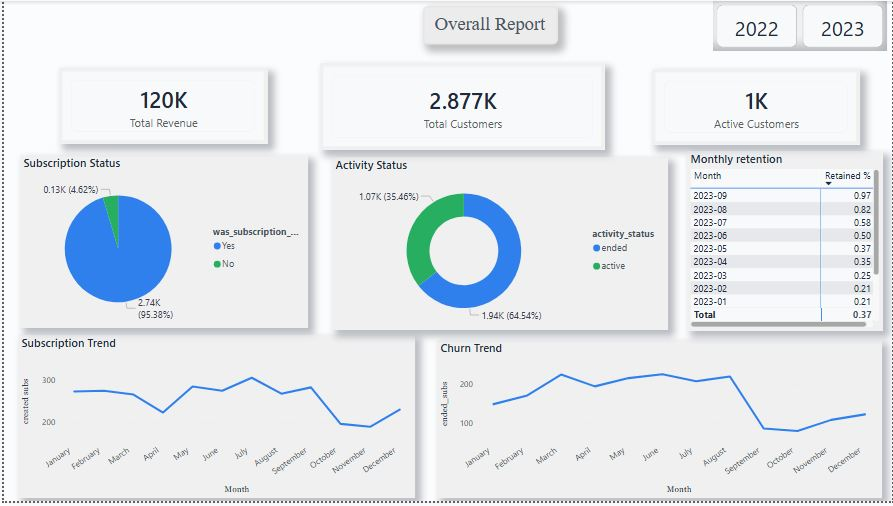

What the dashboard file says about the page in this screenshot:
{"tool":"powerbi","page":{"name":"Page 1","canvas":[1280,720],"ordinal":0},"visuals":[{"type":"cardVisual","fields":{"Data":["Count(Subscription Cohort Analysis Data.customer_id)"]},"box":[455,89.3,410.4,125.3],"z":0},{"type":"pieChart","title":"Subscription Status","fields":{"Category":["Subscription Cohort Analysis Data.was_subscription_paid"],"Y":["Count(Subscription Cohort Analysis Data.customer_id)"]},"box":[23,221.8,414.7,249.1],"z":1000},{"type":"lineChart","title":"Subscription Trend","fields":{"Y":["Subscription Cohort Analysis Data.created subs"],"Category":["Subscription Cohort Analysis Data.created_date.Variation.Date Hierarchy.Year","Subscription Cohort Analysis Data.created_date.Variation.Date Hierarchy.Month"]},"box":[20.2,481,571.7,234.7],"z":2000},{"type":"cardVisual","fields":{"Data":["Sum(Subscription Cohort Analysis Data.subscription_cost)"]},"box":[79.2,96.5,301,109.4],"z":3000},{"type":"lineChart","title":"Churn Trend","fields":{"Category":["Subscription Cohort Analysis Data.canceled_date.Variation.Date Hierarchy.Year","Subscription Cohort Analysis Data.canceled_date.Variation.Date Hierarchy.Month"],"Y":["Subscription Cohort Analysis Data.ended_subs"]},"box":[623.5,488.2,640.8,227.5],"z":4000},{"type":"donutChart","title":"Activity Status","fields":{"Category":["Subscription Cohort Analysis Data.activity_status"],"Y":["Count(Subscription Cohort Analysis Data.customer_id)"]},"box":[472.3,224.6,483.8,249.1],"z":5000},{"type":"cardVisual","fields":{"Data":["Subscription Cohort Analysis Data.active customers"]},"box":[933.1,97.9,299.5,109.4],"z":6000},{"type":"pivotTable","title":"Monthly retention","fields":{"Rows":["Subscription Cohort Analysis Data.cohortmonth"],"Values":["Subscription Cohort Analysis Data.Retained %"]},"box":[983.5,216,282.2,259.2],"z":7000},{"type":"textbox","box":[603.4,7.2,194.4,54.7],"z":8000},{"type":"advancedSlicerVisual","fields":{"Values":["Subscription Cohort Analysis Data.Year"]},"box":[1021,0,250.6,72],"z":8001}]}

Visuals, with their boxes in screenshot pixels (x1, y1, x2, y2), scaled from the page's 1280x720 canvas onto the 893x506 screenshot:
cardVisual - Count(Subscription Cohort Analysis Data.customer_id): 317, 63, 604, 151
"Subscription Status" pieChart: 16, 156, 305, 331
"Subscription Trend" lineChart: 14, 338, 413, 503
cardVisual - Sum(Subscription Cohort Analysis Data.subscription_cost): 55, 68, 265, 145
"Churn Trend" lineChart: 435, 343, 882, 503
"Activity Status" donutChart: 330, 158, 667, 333
cardVisual - Subscription Cohort Analysis Data.active customers: 651, 69, 860, 146
"Monthly retention" pivotTable: 686, 152, 883, 334
textbox: 421, 5, 557, 44
advancedSlicerVisual - Subscription Cohort Analysis Data.Year: 712, 0, 887, 51
